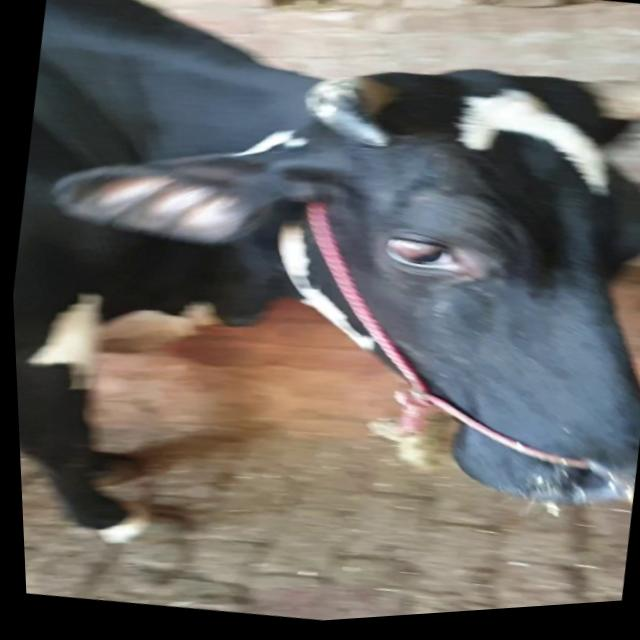cowFace: (238, 51, 640, 546)
